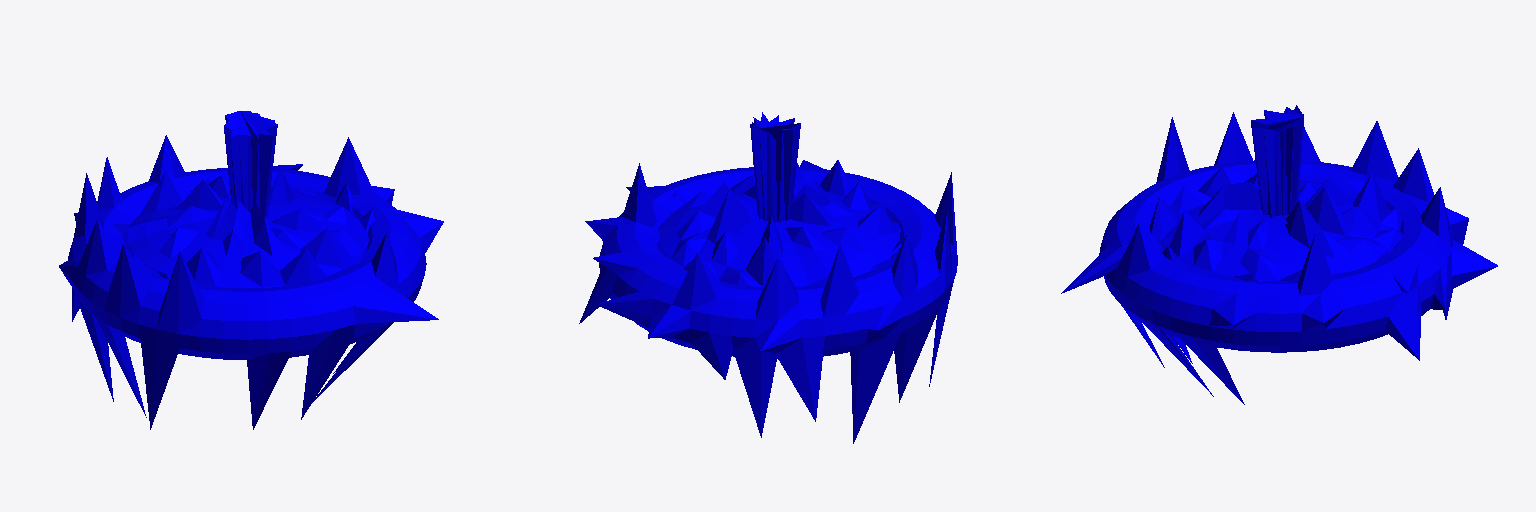
Rendered from lvl_3.obj.
The picture shows the model from 3 angles: view 1: azimuth 30°, elevation 25°; view 2: azimuth 150°, elevation 25°; view 3: azimuth 270°, elevation 25°; orthographic projection.
Parts seen in each view (by area): view 1: Torus, Sphere, Cylinder; view 2: Torus, Sphere, Cylinder; view 3: Torus, Sphere, Cylinder.
Boxes of the visible parts, x1,y1,x2,y2 form: Torus: [59, 135, 443, 429]; Sphere: [113, 168, 374, 288]; Cylinder: [224, 111, 277, 218]; Torus: [579, 160, 957, 443]; Sphere: [652, 160, 910, 286]; Cylinder: [750, 112, 800, 222]; Torus: [1061, 112, 1497, 404]; Sphere: [1149, 166, 1402, 281]; Cylinder: [1251, 105, 1303, 217].
Bounding box in the file's own units: 2.66 × 2.15 × 3.05.